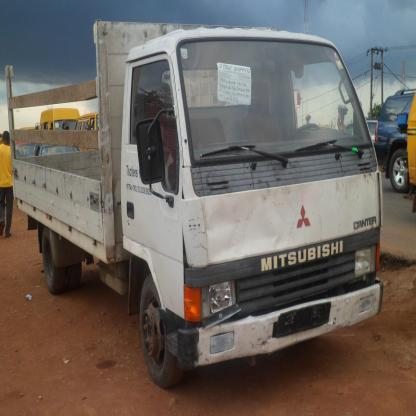truck: (5, 22, 383, 380)
